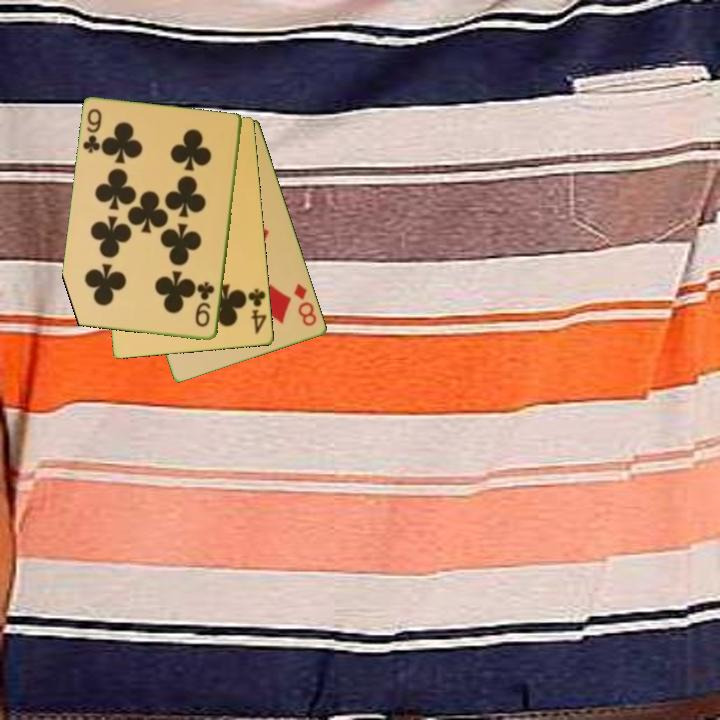4c: (245, 286, 270, 337)
8d: (291, 280, 320, 329)
9c: (79, 105, 105, 156), (192, 278, 217, 330)
